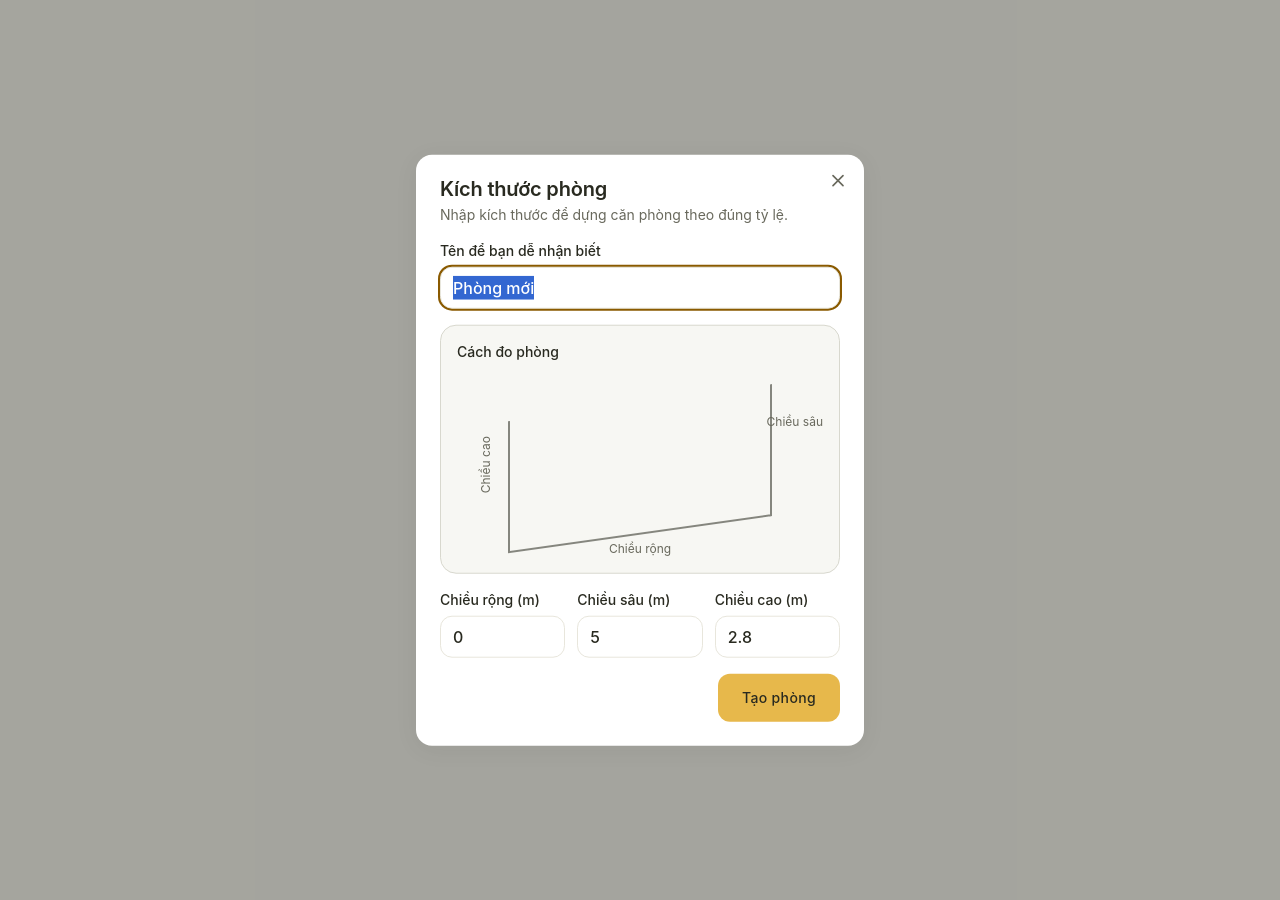
Test: RoomSetupDialog › rejects non-positive dimensions
Click the button "Tạo phòng" at (779, 697), box [718, 673, 840, 721]
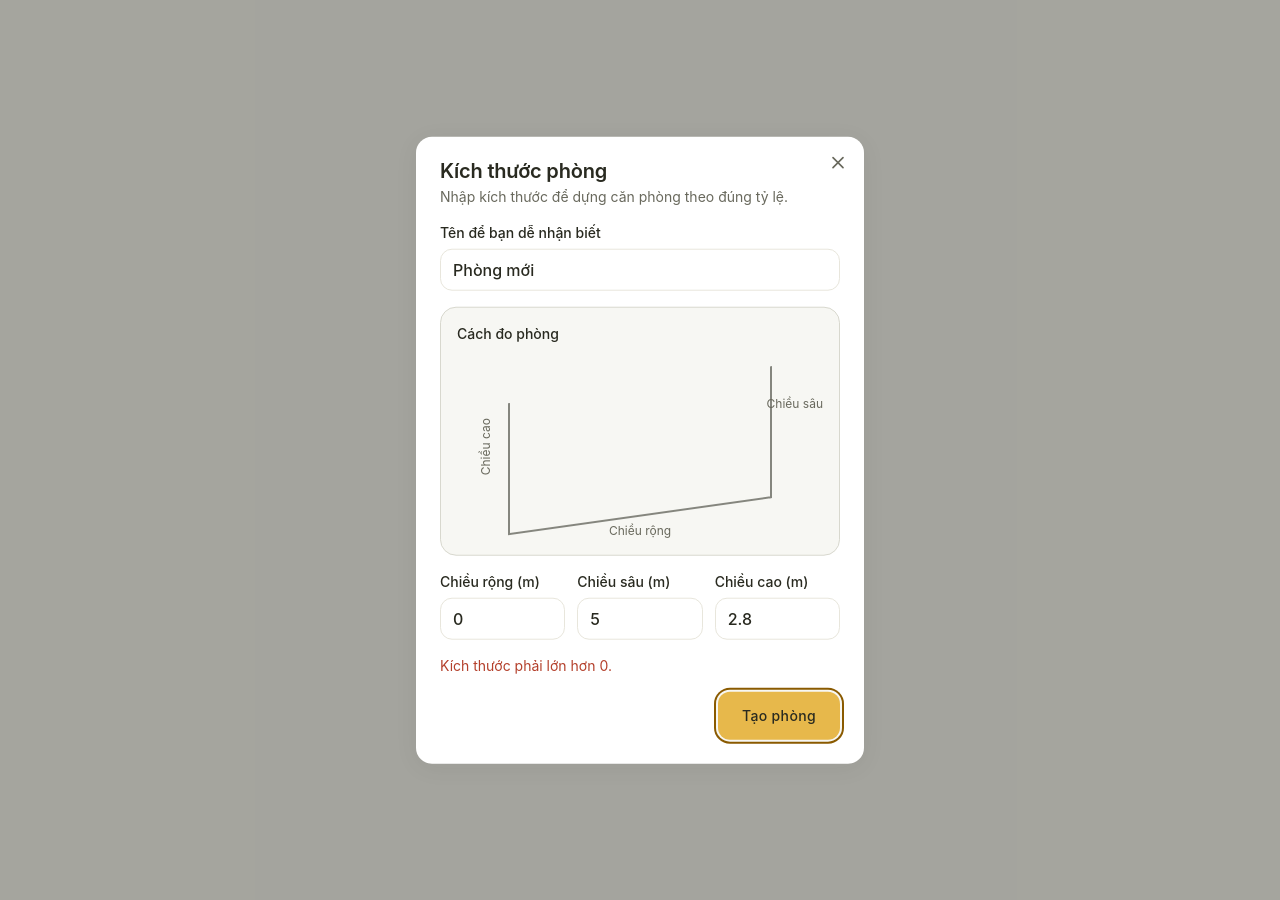
expect the message shows "lớn hơn 0": met, box [440, 656, 612, 673]
